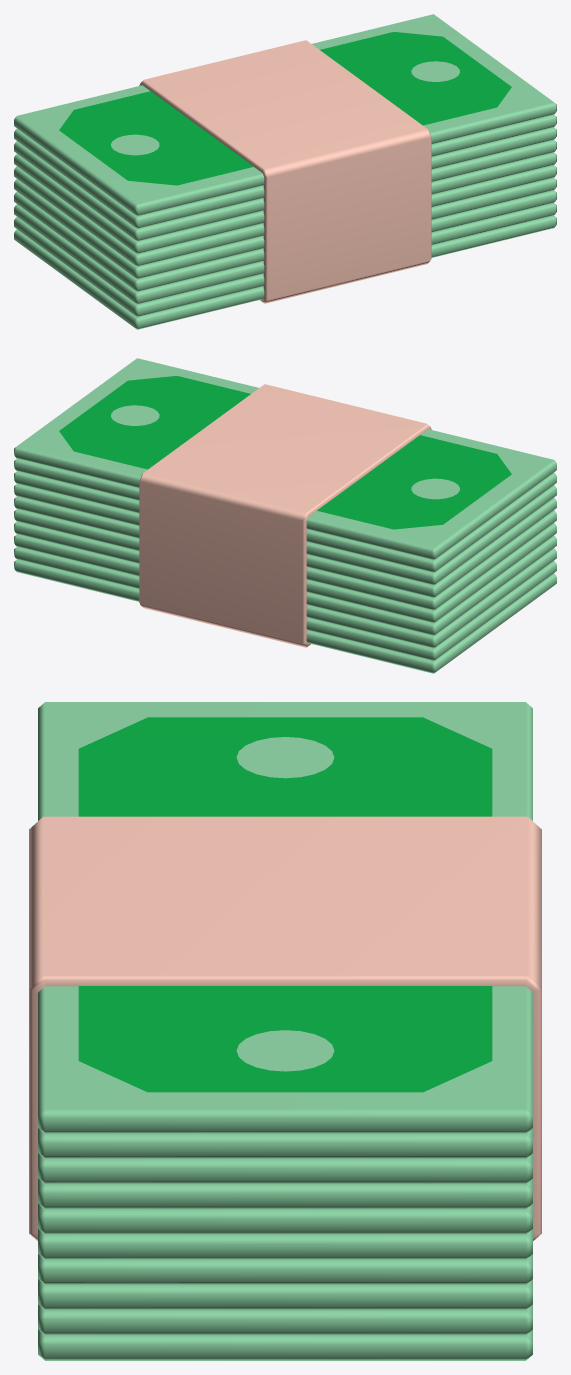
Rendered from Public_1_Stack_of_Money_2.glb.
The picture shows the model from 3 angles, top to bottom: view 1: azimuth 30°, elevation 25°; view 2: azimuth 150°, elevation 25°; view 3: azimuth 270°, elevation 25°; orthographic projection. The views are drawn at different scales.
Visible parts, largest first — view 1: Public_1_Stack_of_Money_2; view 2: Public_1_Stack_of_Money_2; view 3: Public_1_Stack_of_Money_2.
Boxes of the visible parts, bbox=[...] form: Public_1_Stack_of_Money_2: bbox=[14, 14, 556, 329]; Public_1_Stack_of_Money_2: bbox=[14, 358, 556, 673]; Public_1_Stack_of_Money_2: bbox=[29, 702, 541, 1360].
Bounding box in the file's own units: 1.57 × 0.4813 × 0.8262.
Materials: 1 (1 with a texture image).
